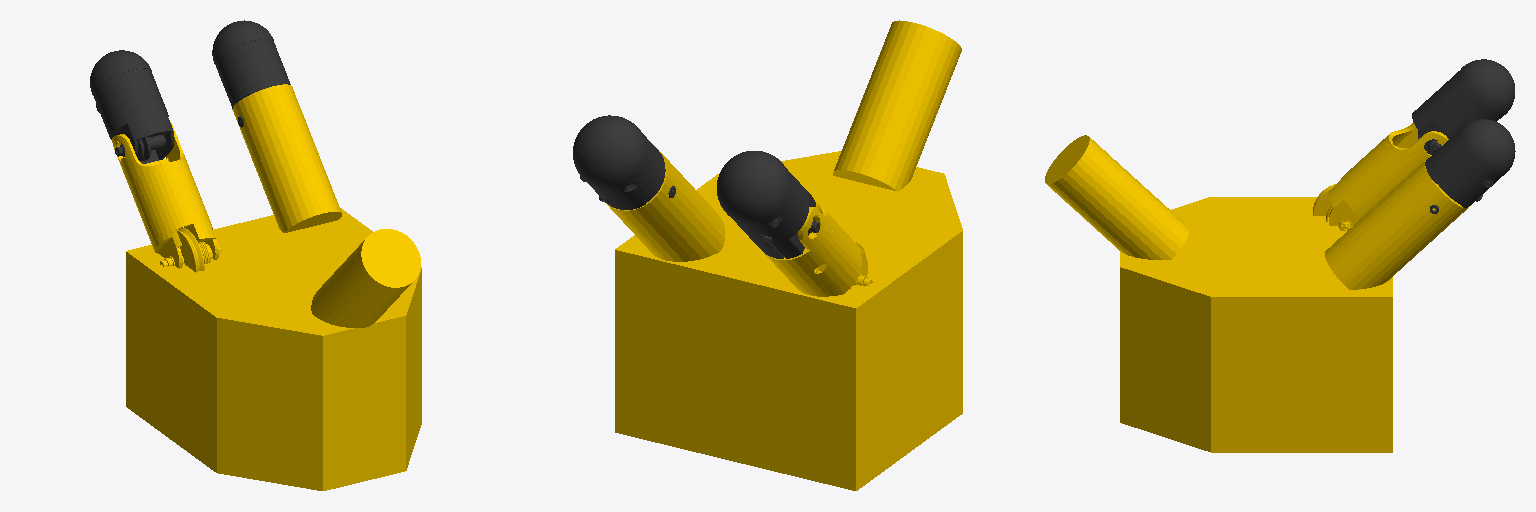
URDF robot description (hand_description):
<?xml version="1.0" encoding="utf-8"?>
<!-- This URDF was automatically created by SolidWorks to URDF Exporter! Originally created by [author] ([email redacted])
     Commit Version: 1.6.0-4-g7f85cfe  Build Version: 1.6.7995.38578
     For more information, please see http://wiki.ros.org/sw_urdf_exporter -->
<robot
  name="hand_description">
  <link
    name="base_link_palm">
    <inertial>
      <origin
        xyz="-0.00055762 0.0025414 0.029616"
        rpy="0 0 0" />
      <mass
        value="0.25708" />
      <inertia
        ixx="7.458E-05"
        ixy="1.1865E-07"
        ixz="5.4297E-08"
        iyy="7.7907E-05"
        iyz="1.2345E-07"
        izz="0.00012736" />
    </inertial>
    <visual>
      <origin
        xyz="0 0 0"
        rpy="0 0 0" />
      <geometry>
        <mesh
          filename="package://hand_description/meshes/base_link_palm.STL" />
      </geometry>
      <material
        name="">
        <color
          rgba="0.980 0.8 0 .3" />
      </material>
    </visual>
    <collision>
      <origin
        xyz="0 0 0"
        rpy="0 0 0" />
      <geometry>
        <mesh
          filename="package://hand_description/meshes/base_link_palm.STL" />
      </geometry>
    </collision>
  </link>
  <link
    name="finger1_roll_link">
    <inertial>
      <origin
        xyz="0.00014313 -0.014271 -0.0057664"
        rpy="0 0 0" />
      <mass
        value="0.018446" />
      <inertia
        ixx="1.6174E-06"
        ixy="5.4354E-09"
        ixz="1.014E-07"
        iyy="1.1621E-06"
        iyz="6.8814E-08"
        izz="1.1208E-06" />
    </inertial>
    <visual>
      <origin
        xyz="0 0 0"
        rpy="0 0 0" />
      <geometry>
        <mesh
          filename="package://hand_description/meshes/finger1_roll_link.STL" />
      </geometry>
      <material
        name="">
        <color
          rgba="0.25 0.25 0.25 1" />
      </material>
    </visual>
    <collision>
      <origin
        xyz="0 0 0"
        rpy="0 0 0" />
      <geometry>
        <mesh
          filename="package://hand_description/meshes/finger1_roll_link.STL" />
      </geometry>
    </collision>
  </link>
  <joint
    name="finger1_roll_joint"
    type="revolute">
    <origin
      xyz="-0.028 0.035 0.068"
      rpy="1.5708 0 0" />
    <parent
      link="base_link_palm" />
    <child
      link="finger1_roll_link" />
    <axis
      xyz="0 1 0" />
    <limit
      lower="0"
      upper="1.57"
      effort="0"
      velocity="0" />
  </joint>
  <link
    name="finger1_prox_link">
    <inertial>
      <origin
        xyz="0.00018393 0.016237 -0.00090958"
        rpy="0 0 0" />
      <mass
        value="0.012652" />
      <inertia
        ixx="2.4154E-06"
        ixy="-5.8498E-08"
        ixz="7.1694E-09"
        iyy="6.8522E-07"
        iyz="1.0987E-07"
        izz="2.1181E-06" />
    </inertial>
    <visual>
      <origin
        xyz="0 0 0"
        rpy="0 0 0" />
      <geometry>
        <mesh
          filename="package://hand_description/meshes/finger1_prox_link.STL" />
      </geometry>
      <material
        name="">
        <color
          rgba="0.980 0.8 0.0 1" />
      </material>
    </visual>
    <collision>
      <origin
        xyz="0 0 0"
        rpy="0 0 0" />
      <geometry>
        <mesh
          filename="package://hand_description/meshes/finger1_prox_link.STL" />
      </geometry>
    </collision>
  </link>
  <joint
    name="finger1_prox_joint"
    type="revolute">
    <origin
      xyz="0 0 0"
      rpy="-0.7854 0 0" />
    <parent
      link="finger1_roll_link" />
    <child
      link="finger1_prox_link" />
    <axis
      xyz="1 0 0" />
    <limit
      lower="0"
      upper="1.57"
      effort="0"
      velocity="0" />
  </joint>
  <link
    name="finger1_dist_link">
    <inertial>
      <origin
        xyz="-0.00029905 0.018376 -0.0012278"
        rpy="0 0 0" />
      <mass
        value="0.013163" />
      <inertia
        ixx="1.1183E-06"
        ixy="5.3426E-09"
        ixz="3.1377E-10"
        iyy="7.8383E-07"
        iyz="1.1248E-08"
        izz="9.3332E-07" />
    </inertial>
    <visual>
      <origin
        xyz="0 0 0"
        rpy="0 0 0" />
      <geometry>
        <mesh
          filename="package://hand_description/meshes/finger1_dist_link.STL" />
      </geometry>
      <material
        name="">
        <color
          rgba="0.25 0.25 0.25 1" />
      </material>
    </visual>
    <collision>
      <origin
        xyz="0 0 0"
        rpy="0 0 0" />
      <geometry>
        <mesh
          filename="package://hand_description/meshes/finger1_dist_link.STL" />
      </geometry>
    </collision>
  </link>
  <joint
    name="finger1_dist_joint"
    type="revolute">
    <origin
      xyz="0 0.05 0"
      rpy="0 0 0" />
    <parent
      link="finger1_prox_link" />
    <child
      link="finger1_dist_link" />
    <axis
      xyz="1 0 0" />
    <limit
      lower="0"
      upper="1.57"
      effort="0"
      velocity="0" />
  </joint>
  <link
    name="finger2_roll_link">
    <inertial>
      <origin
        xyz="0.00014909 -0.014271 0.0057638"
        rpy="0 0 0" />
      <mass
        value="0.018446" />
      <inertia
        ixx="1.6174E-06"
        ixy="5.4353E-09"
        ixz="-1.014E-07"
        iyy="1.1621E-06"
        iyz="-6.8817E-08"
        izz="1.1208E-06" />
    </inertial>
    <visual>
      <origin
        xyz="0 0 0"
        rpy="0 0 0" />
      <geometry>
        <mesh
          filename="package://hand_description/meshes/finger2_roll_link.STL" />
      </geometry>
      <material
        name="">
        <color
          rgba="0.25 0.25 0.25 1" />
      </material>
    </visual>
    <collision>
      <origin
        xyz="0 0 0"
        rpy="0 0 0" />
      <geometry>
        <mesh
          filename="package://hand_description/meshes/finger2_roll_link.STL" />
      </geometry>
    </collision>
  </link>
  <joint
    name="finger2_roll_joint"
    type="revolute">
    <origin
      xyz="0.028 0.035 0.068"
      rpy="1.5708 0 3.142" />
    <parent
      link="base_link_palm" />
    <child
      link="finger2_roll_link" />
    <axis
      xyz="0 -1 0" />
    <limit
      lower="0"
      upper="1.57"
      effort="0"
      velocity="0" />
  </joint>
  <link
    name="finger2_prox_link">
    <inertial>
      <origin
        xyz="-0.00014689 0.019465 0.0011631"
        rpy="0 0 0" />
      <mass
        value="0.01395" />
      <inertia
        ixx="2.3886E-06"
        ixy="-5.9238E-08"
        ixz="-6.8093E-09"
        iyy="6.8615E-07"
        iyz="-1.1112E-07"
        izz="2.1183E-06" />
    </inertial>
    <visual>
      <origin
        xyz="0 0 0"
        rpy="0 0 0" />
      <geometry>
        <mesh
          filename="package://hand_description/meshes/finger2_prox_link.STL" />
      </geometry>
      <material
        name="">
        <color
          rgba="0.980 0.8 0.0 1" />
      </material>
    </visual>
    <collision>
      <origin
        xyz="0 0 0"
        rpy="0 0 0" />
      <geometry>
        <mesh
          filename="package://hand_description/meshes/finger2_prox_link.STL" />
      </geometry>
    </collision>
  </link>
  <joint
    name="finger2_prox_joint"
    type="revolute">
    <origin
      xyz="0 0 0"
      rpy="0.7854 0 0" />
    <parent
      link="finger2_roll_link" />
    <child
      link="finger2_prox_link" />
    <axis
      xyz="-1 0 0" />
    <limit
      lower="0"
      upper="1.57"
      effort="0"
      velocity="0" />
  </joint>
  <link
    name="finger2_dist_link">
    <inertial>
      <origin
        xyz="-0.00029903 0.018376 0.0012279"
        rpy="0 0 0" />
      <mass
        value="0.013163" />
      <inertia
        ixx="1.1183E-06"
        ixy="5.3424E-09"
        ixz="-3.1446E-10"
        iyy="7.8384E-07"
        iyz="-1.1246E-08"
        izz="9.3333E-07" />
    </inertial>
    <visual>
      <origin
        xyz="0 0 0"
        rpy="0 0 0" />
      <geometry>
        <mesh
          filename="package://hand_description/meshes/finger2_dist_link.STL" />
      </geometry>
      <material
        name="">
        <color
          rgba="0.25 0.25 0.25 1" />
      </material>
    </visual>
    <collision>
      <origin
        rpy="0 0 0" />
      <geometry>
        <mesh
          filename="package://hand_description/meshes/finger2_dist_link.STL" />
      </geometry>
    </collision>
  </link>
  <joint
    name="finger2_dist_joint"
    type="revolute">
    <origin
      xyz="0 0.05 0"
      rpy="0 0 0" />
    <parent
      link="finger2_prox_link" />
    <child
      link="finger2_dist_link" />
    <axis
      xyz="-1 0 0" />
    <limit
      lower="0"
      upper="1.57"
      effort="0"
      velocity="0" />
  </joint>
  <link
    name="thumb_prox_link">
    <inertial>
      <origin
        xyz="-0.00024351 0.01978 -0.00093343"
        rpy="0 0 0" />
      <mass
        value="0.012808" />
      <inertia
        ixx="2.562E-06"
        ixy="-6.3477E-08"
        ixz="5.3455E-09"
        iyy="6.4847E-07"
        iyz="1.176E-07"
        izz="2.2147E-06" />
    </inertial>
    <visual>
      <origin
        xyz="0 0 0"
        rpy="0 0 0" />
      <geometry>
        <mesh
          filename="package://hand_description/meshes/thumb_prox_link.STL" />
      </geometry>
      <material
        name="">
        <color
          rgba="0.980 0.8 0.0 1" />
      </material>
    </visual>
    <collision>
      <origin
        xyz="0 0 0"
        rpy="0 0 0" />
      <geometry>
        <mesh
          filename="package://hand_description/meshes/thumb_prox_link.STL" />
      </geometry>
    </collision>
  </link>
  <joint
    name="thumb_prox_joint"
    type="revolute">
    <origin
      xyz="0 -0.035 0.066"
      rpy="0.7854 0 -3.1416" />
    <parent
      link="base_link_palm" />
    <child
      link="thumb_prox_link" />
    <axis
      xyz="1 0 0" />
    <limit
      lower="0"
      upper="1.57"
      effort="0"
      velocity="0" />
  </joint>
  <link
    name="thumb_dist_link">
    <inertial>
      <origin
        xyz="-0.00011938 0.019176 -0.0006828"
        rpy="0 0 0" />
      <mass
        value="0.011666" />
      <inertia
        ixx="1.155E-06"
        ixy="2.3661E-09"
        ixz="7.5359E-10"
        iyy="7.2966E-07"
        iyz="1.4996E-08"
        izz="9.104E-07" />
    </inertial>
    <visual>
      <origin
        xyz="0 0 0"
        rpy="0 0 0" />
      <geometry>
        <mesh
          filename="package://hand_description/meshes/thumb_dist_link.STL" />
      </geometry>
      <material
        name="">
        <color
          rgba="0.25 0.25 0.25 1" />
      </material>
    </visual>
    <collision>
      <origin
        xyz="0 0 0"
        rpy="0 0 0" />
      <geometry>
        <mesh
          filename="package://hand_description/meshes/thumb_dist_link.STL" />
      </geometry>
    </collision>
  </link>
  <joint
    name="thumb_dist_joint"
    type="revolute">
    <origin
      xyz="0 0.05 0"
      rpy="0 0 0" />
    <parent
      link="thumb_prox_link" />
    <child
      link="thumb_dist_link" />
    <axis
      xyz="1 0 0" />
    <limit
      lower="0"
      upper="1.57"
      effort="0"
      velocity="0" />
  </joint>
</robot>

--- Facts derived from the render (not from the file) ---
The picture shows the robot from 3 angles, left to right: view 1: azimuth 30°, elevation 25°; view 2: azimuth 150°, elevation 25°; view 3: azimuth 270°, elevation 25°; orthographic projection.
Robot: hand_description — 9 links, 8 joints (8 revolute); root link base_link_palm; default pose: every joint at zero.
Visible links, largest first — view 1: base_link_palm, finger2_prox_link, finger1_prox_link, thumb_prox_link, finger1_dist_link, finger2_dist_link; view 2: base_link_palm, thumb_prox_link, finger1_dist_link, finger2_dist_link, finger2_prox_link, finger1_prox_link; view 3: base_link_palm, thumb_prox_link, finger2_prox_link, finger1_prox_link, finger2_dist_link, finger1_dist_link.
Link boxes in pixels (x1,y1,x2,y2): base_link_palm: [126, 208, 421, 490]; finger2_prox_link: [232, 84, 341, 232]; finger1_prox_link: [112, 122, 221, 272]; thumb_prox_link: [311, 229, 420, 327]; finger1_dist_link: [90, 50, 174, 163]; finger2_dist_link: [212, 20, 290, 127]; base_link_palm: [615, 151, 962, 490]; thumb_prox_link: [833, 20, 961, 191]; finger1_dist_link: [717, 151, 819, 258]; finger2_dist_link: [573, 115, 675, 209]; finger2_prox_link: [606, 151, 725, 261]; finger1_prox_link: [763, 203, 872, 296]; base_link_palm: [1120, 197, 1392, 452]; thumb_prox_link: [1045, 135, 1189, 259]; finger2_prox_link: [1325, 161, 1469, 289]; finger1_prox_link: [1313, 122, 1448, 230]; finger2_dist_link: [1425, 119, 1515, 213]; finger1_dist_link: [1412, 59, 1514, 154].
Size in the robot's own frame: 0.094 by 0.1864 by 0.1355 metres.
Meshes: 9 distinct files referenced, 6 mesh visuals loaded (6 binary STL); not drawn: 3 (reference not matched to a file when rendering).